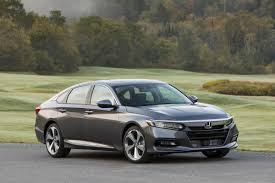Honda: (35, 77, 241, 163)
